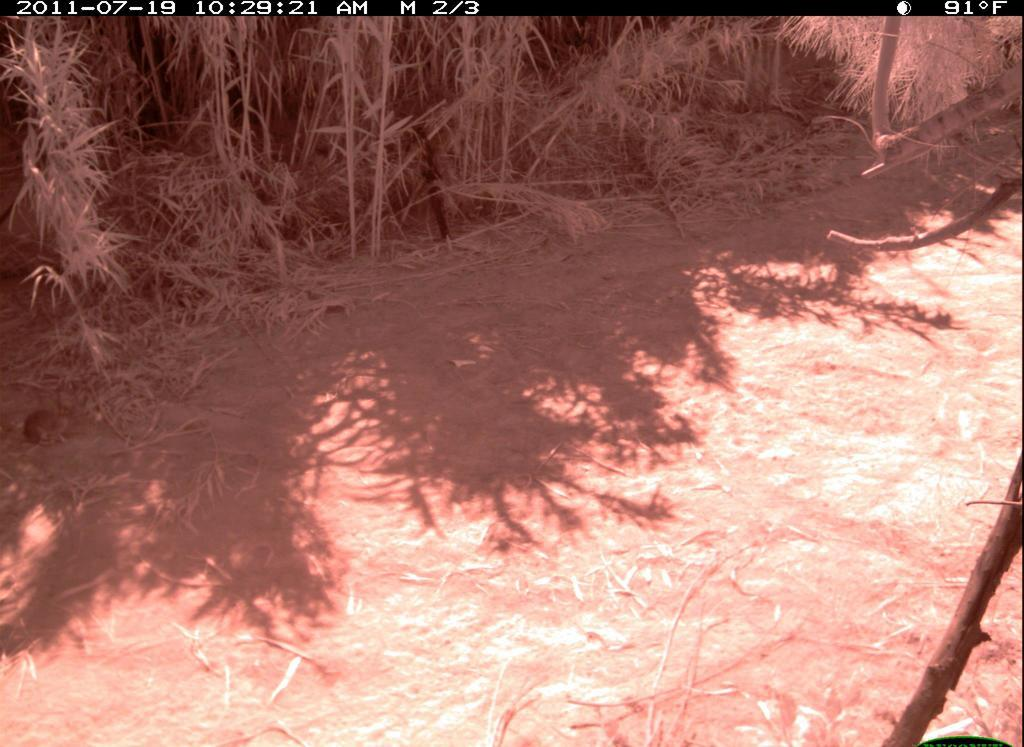rabbit: (22, 378, 89, 456)
